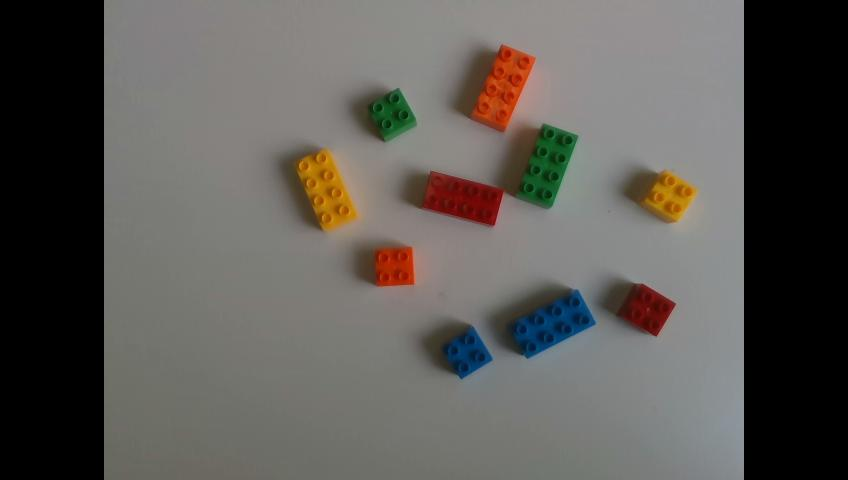2x2_blue: (444, 326, 491, 378)
2x2_green: (370, 87, 416, 138)
2x2_orange: (376, 246, 414, 285)
2x2_red: (619, 281, 675, 335)
2x2_yellow: (637, 168, 696, 221)
4x2_blue: (511, 288, 599, 356)
4x2_green: (512, 123, 579, 212)
4x2_orange: (472, 42, 535, 135)
4x2_red: (424, 170, 503, 225)
4x2_yellow: (288, 147, 365, 233)
